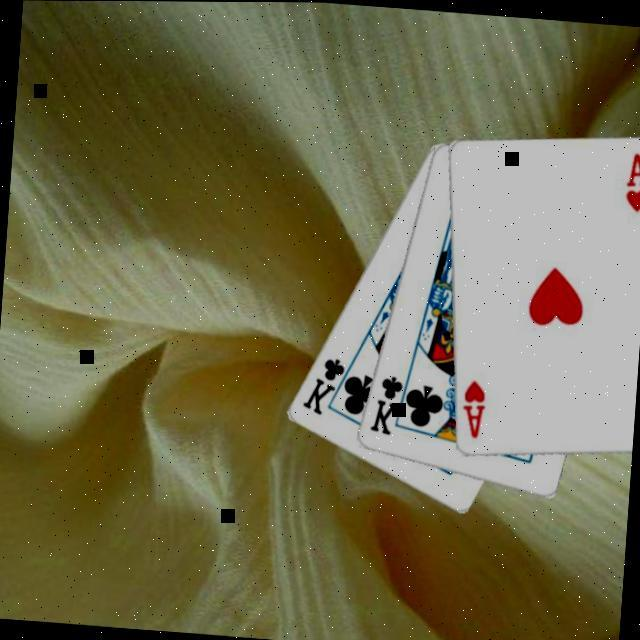AH: (456, 376, 488, 440), (618, 147, 640, 213)
KC: (297, 352, 355, 418), (364, 367, 411, 438)
